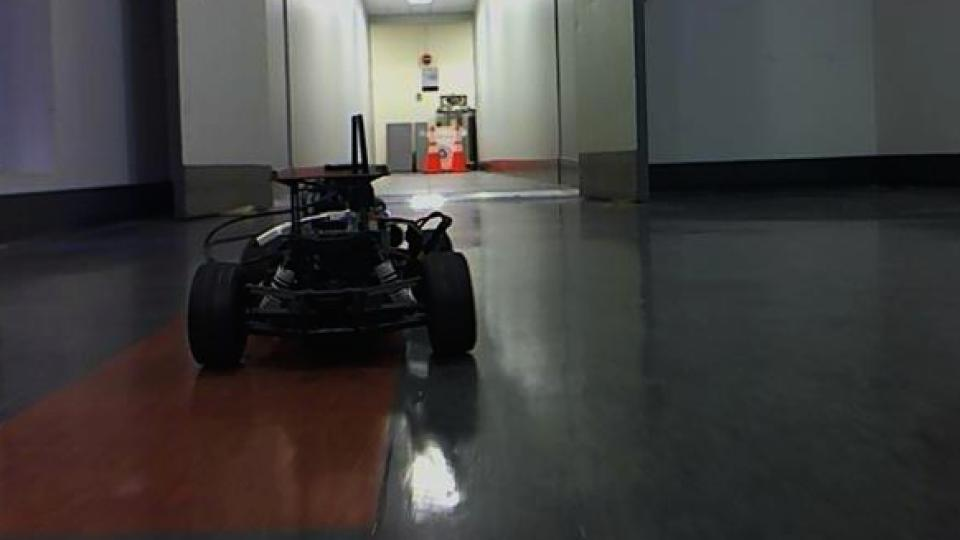car: (181, 112, 480, 372)
